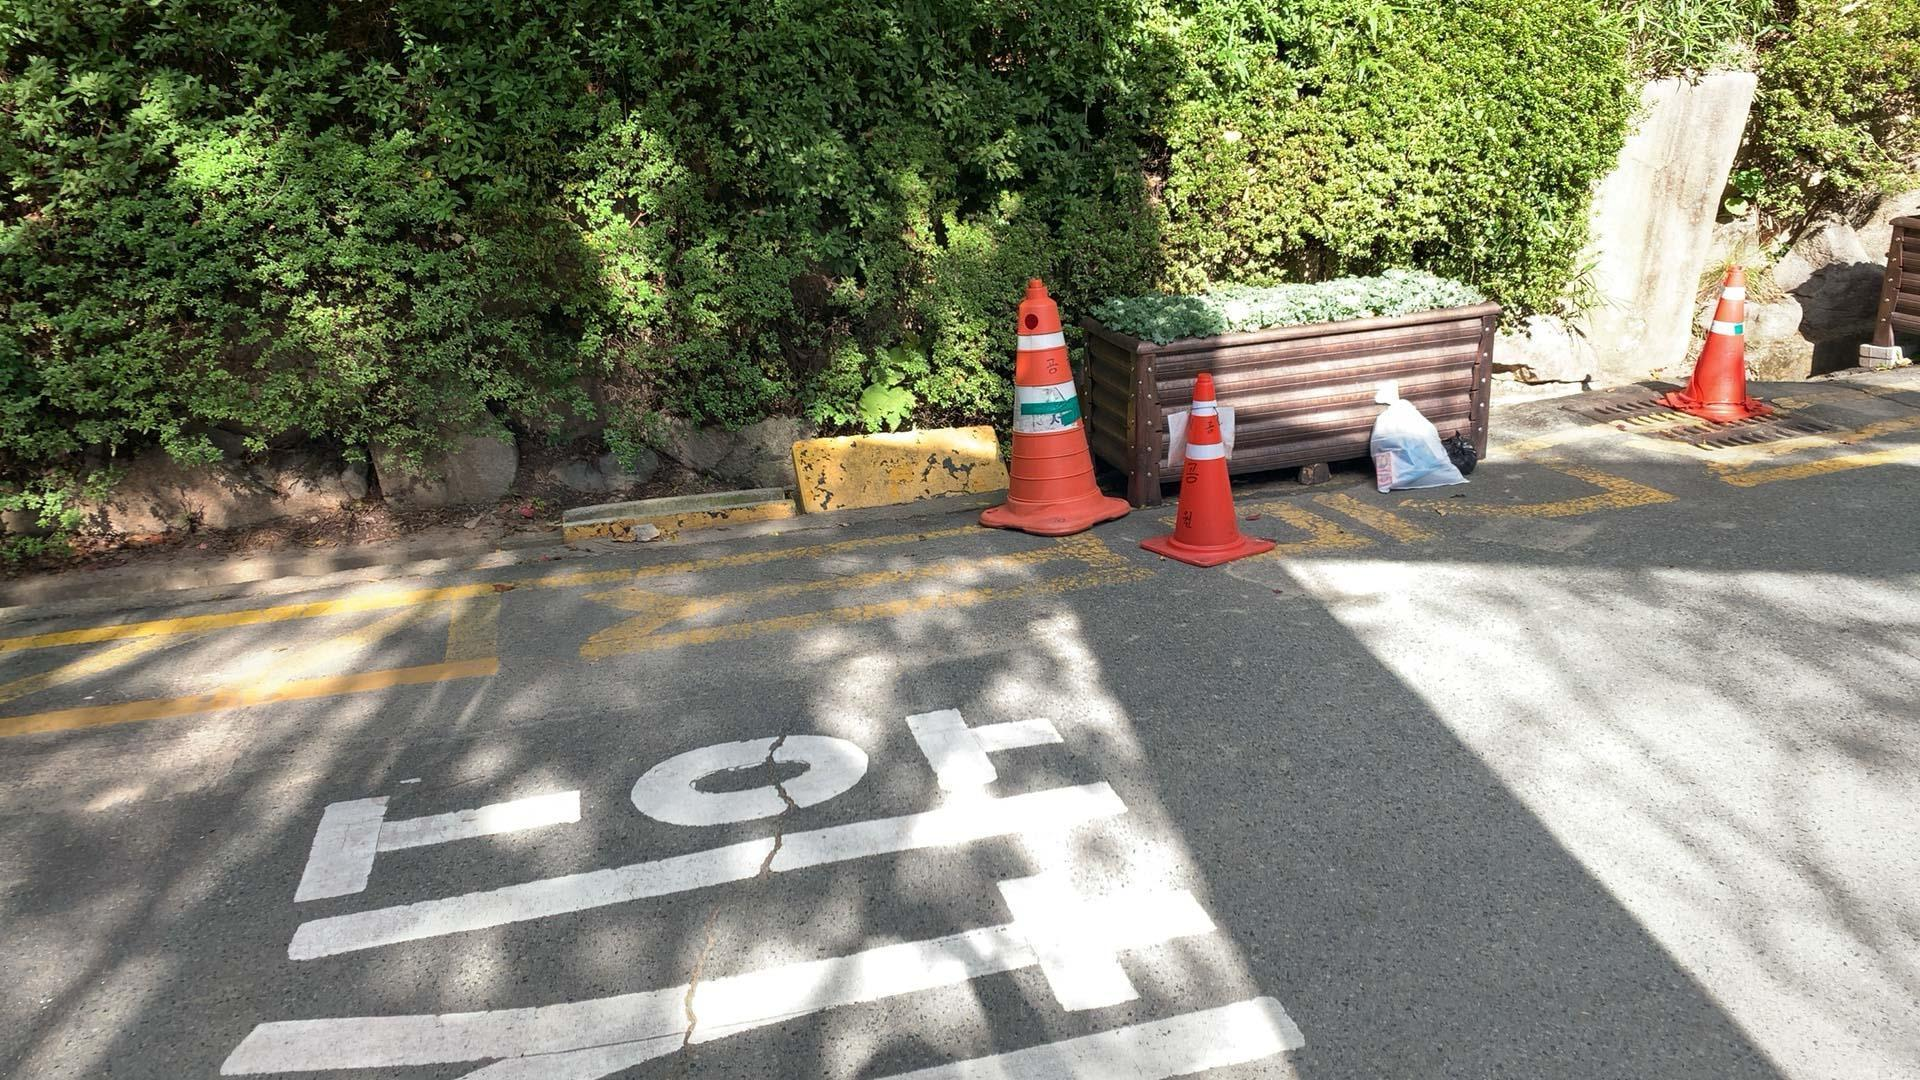black_bag: (1433, 425, 1480, 480)
white_bag: (1362, 377, 1472, 495)
